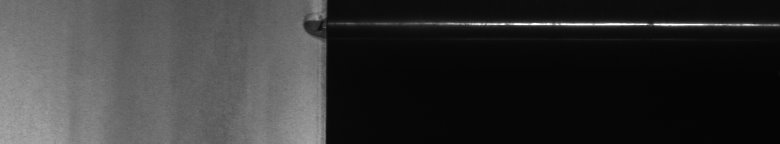hb: (296, 4, 316, 44)
